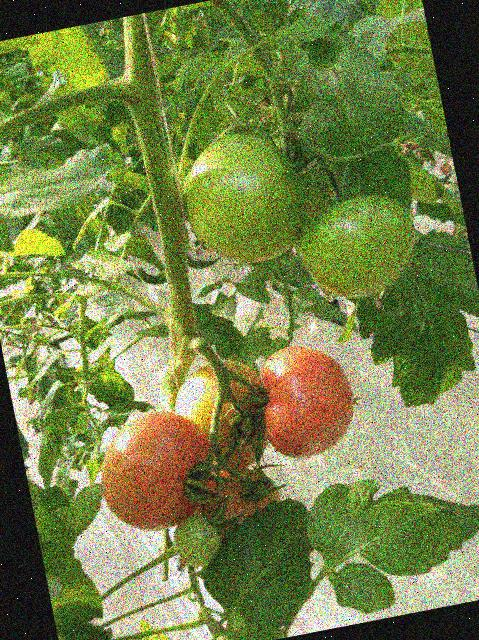b_fully_ripened: (89, 402, 223, 540), (250, 335, 362, 464)
b_green: (174, 123, 317, 272), (291, 186, 427, 308), (168, 509, 226, 571)
b_half_ripened: (167, 354, 280, 478)
